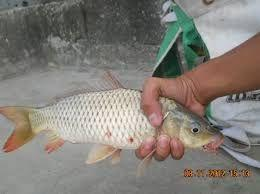Grass Carp: (0, 72, 226, 178)
